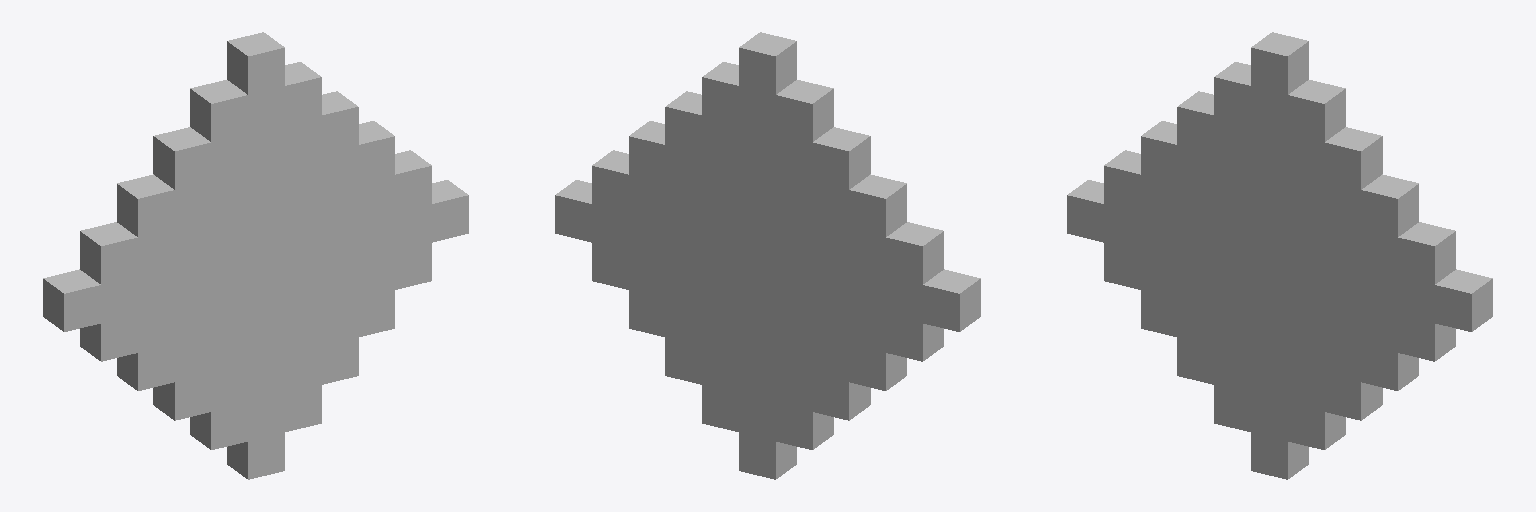
File: item extra-estrela3.obj
3 views of the same model, side by side, from view 1: azimuth 30°, elevation 25°; view 2: azimuth 150°, elevation 25°; view 3: azimuth 330°, elevation 25° (orthographic).
Visible parts, largest first — view 1: ObjObject; view 2: ObjObject; view 3: ObjObject.
Part boxes in pixels (left/top/right/bottom): ObjObject: left=43, top=32, right=468, bottom=479; ObjObject: left=555, top=32, right=980, bottom=479; ObjObject: left=1067, top=32, right=1492, bottom=479.
Bounding box in the file's own units: 1.1 × 1.1 × 0.1.